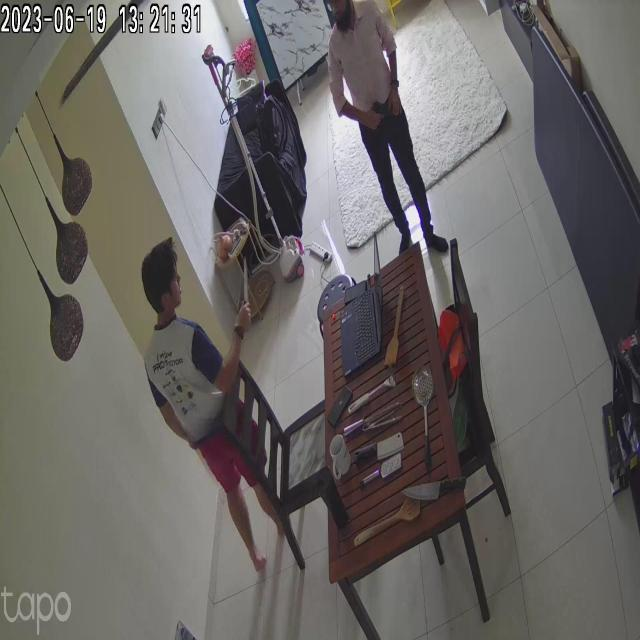Gun: (369, 101, 407, 135)
Knife: (232, 254, 258, 318)
